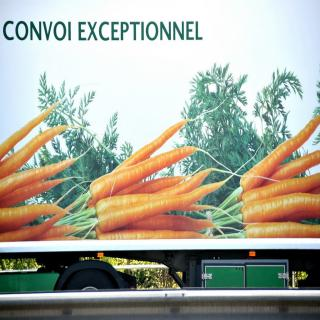Carrot: (0, 84, 101, 243), (196, 114, 320, 238), (61, 147, 232, 210)
